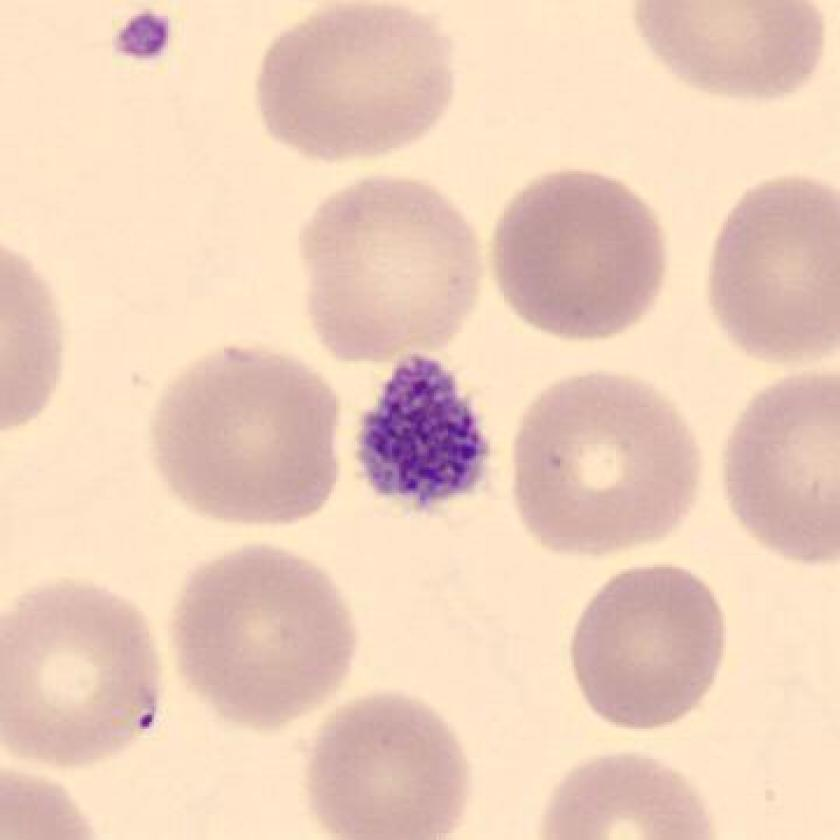platelets: (346, 344, 505, 520), (106, 10, 181, 68)
